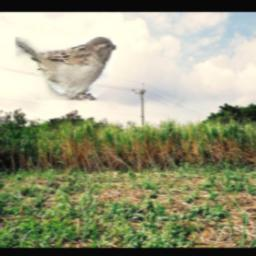Sparrow: (17, 38, 117, 101)
